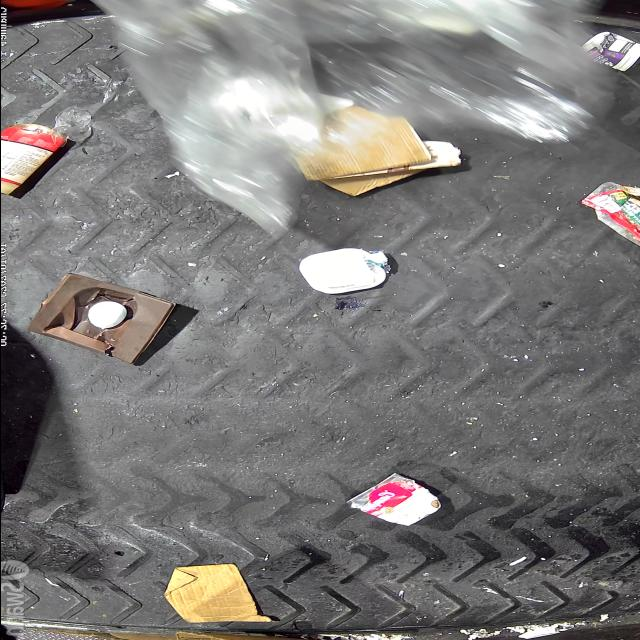can: (346, 473, 442, 528)
